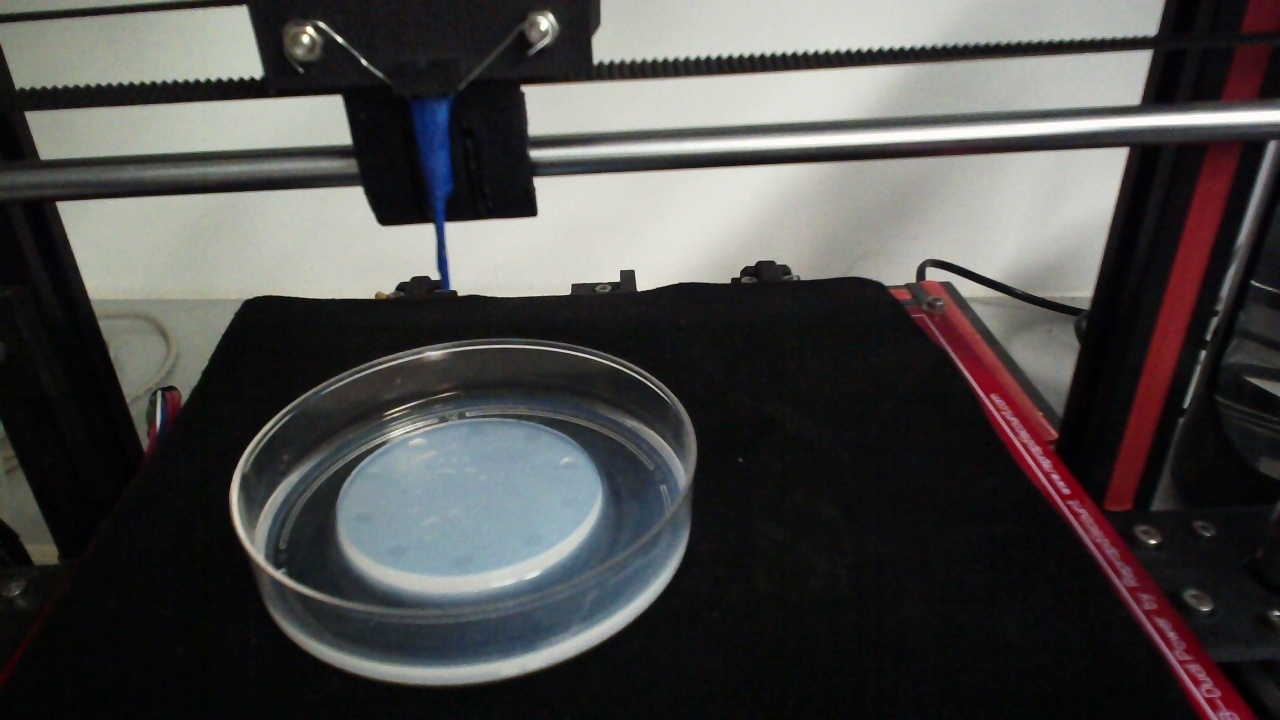groove: (450, 551, 476, 568), (521, 529, 543, 548), (383, 543, 409, 558), (556, 493, 581, 508), (520, 429, 541, 445), (558, 457, 580, 472), (351, 510, 373, 524), (363, 467, 384, 481), (467, 423, 486, 438), (407, 437, 427, 450)
needle: (411, 101, 451, 289)
